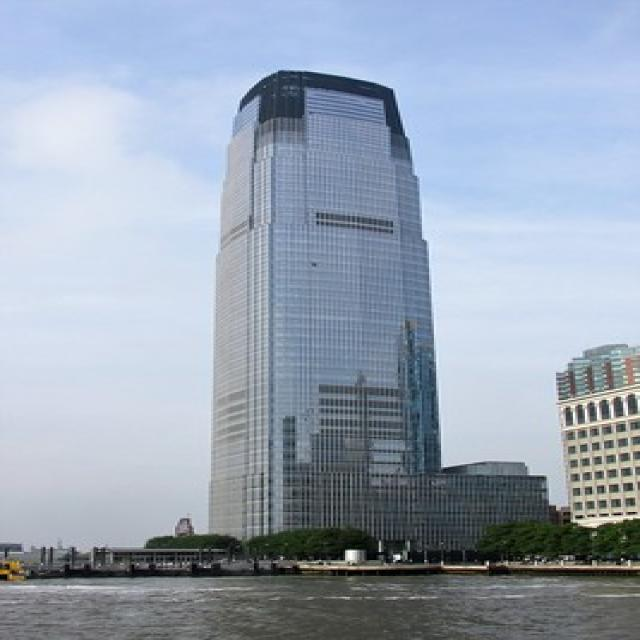building: (201, 64, 453, 565)
